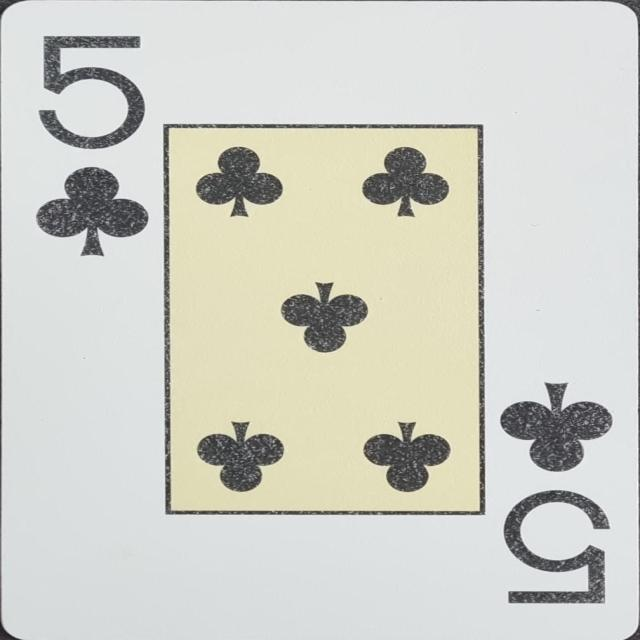5c: (29, 29, 156, 268), (490, 377, 620, 609)
